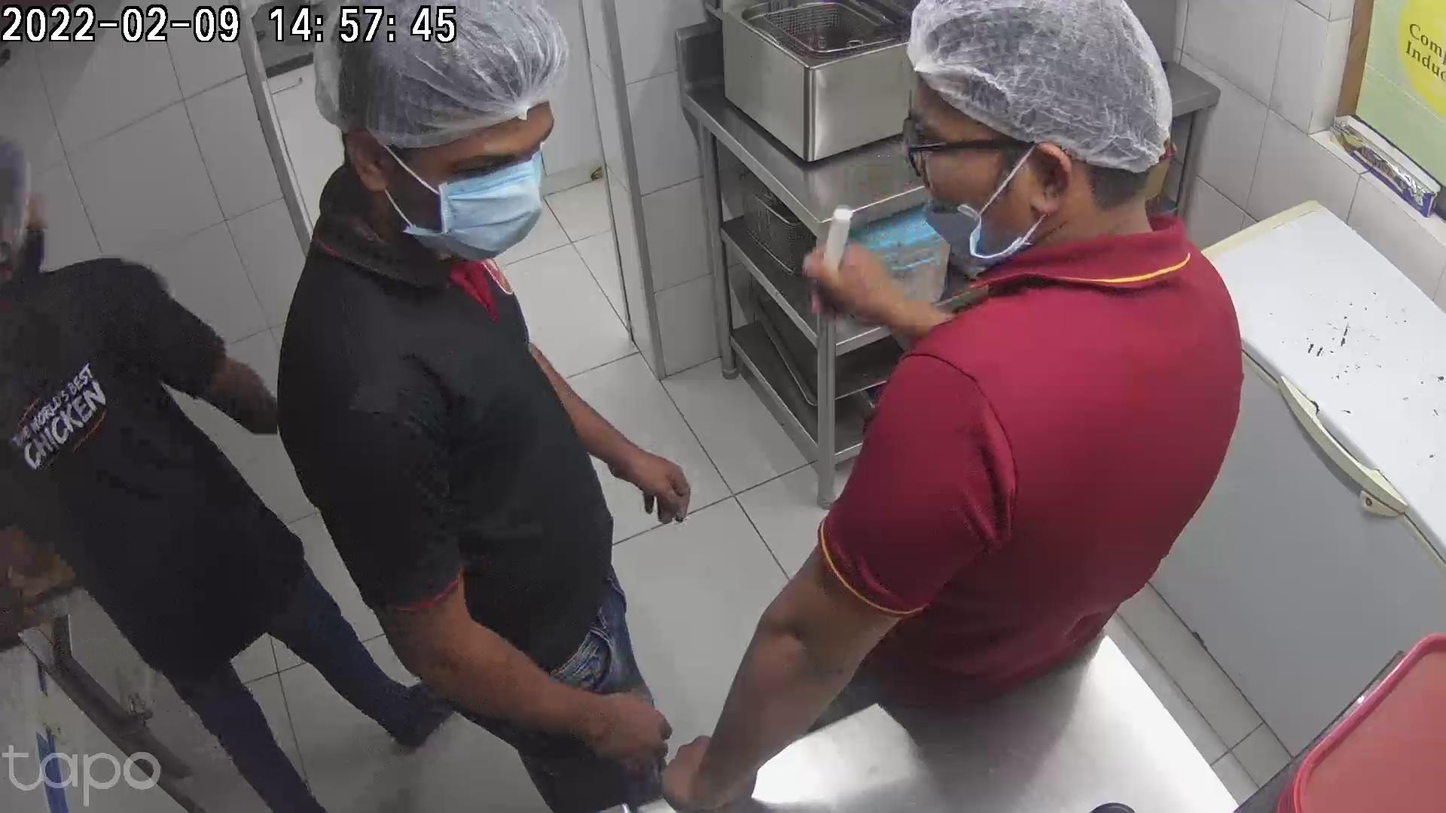no_gloves: (598, 419, 689, 521)
